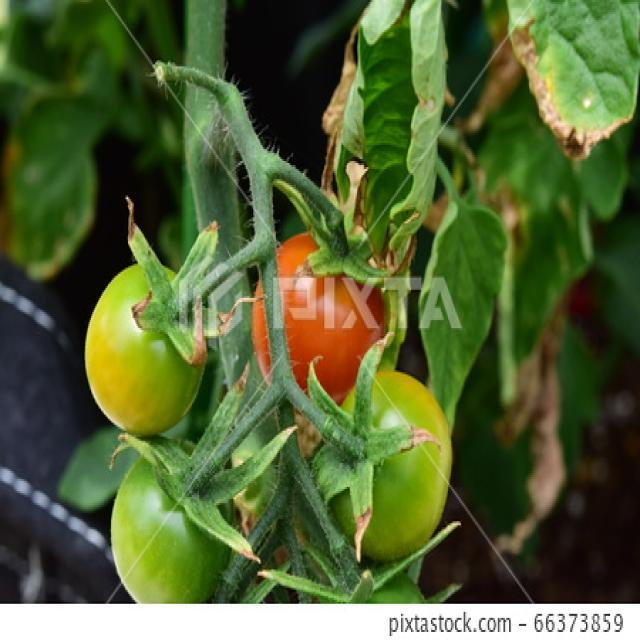yesil: (66, 258, 218, 436), (296, 392, 464, 534), (90, 448, 222, 614)
